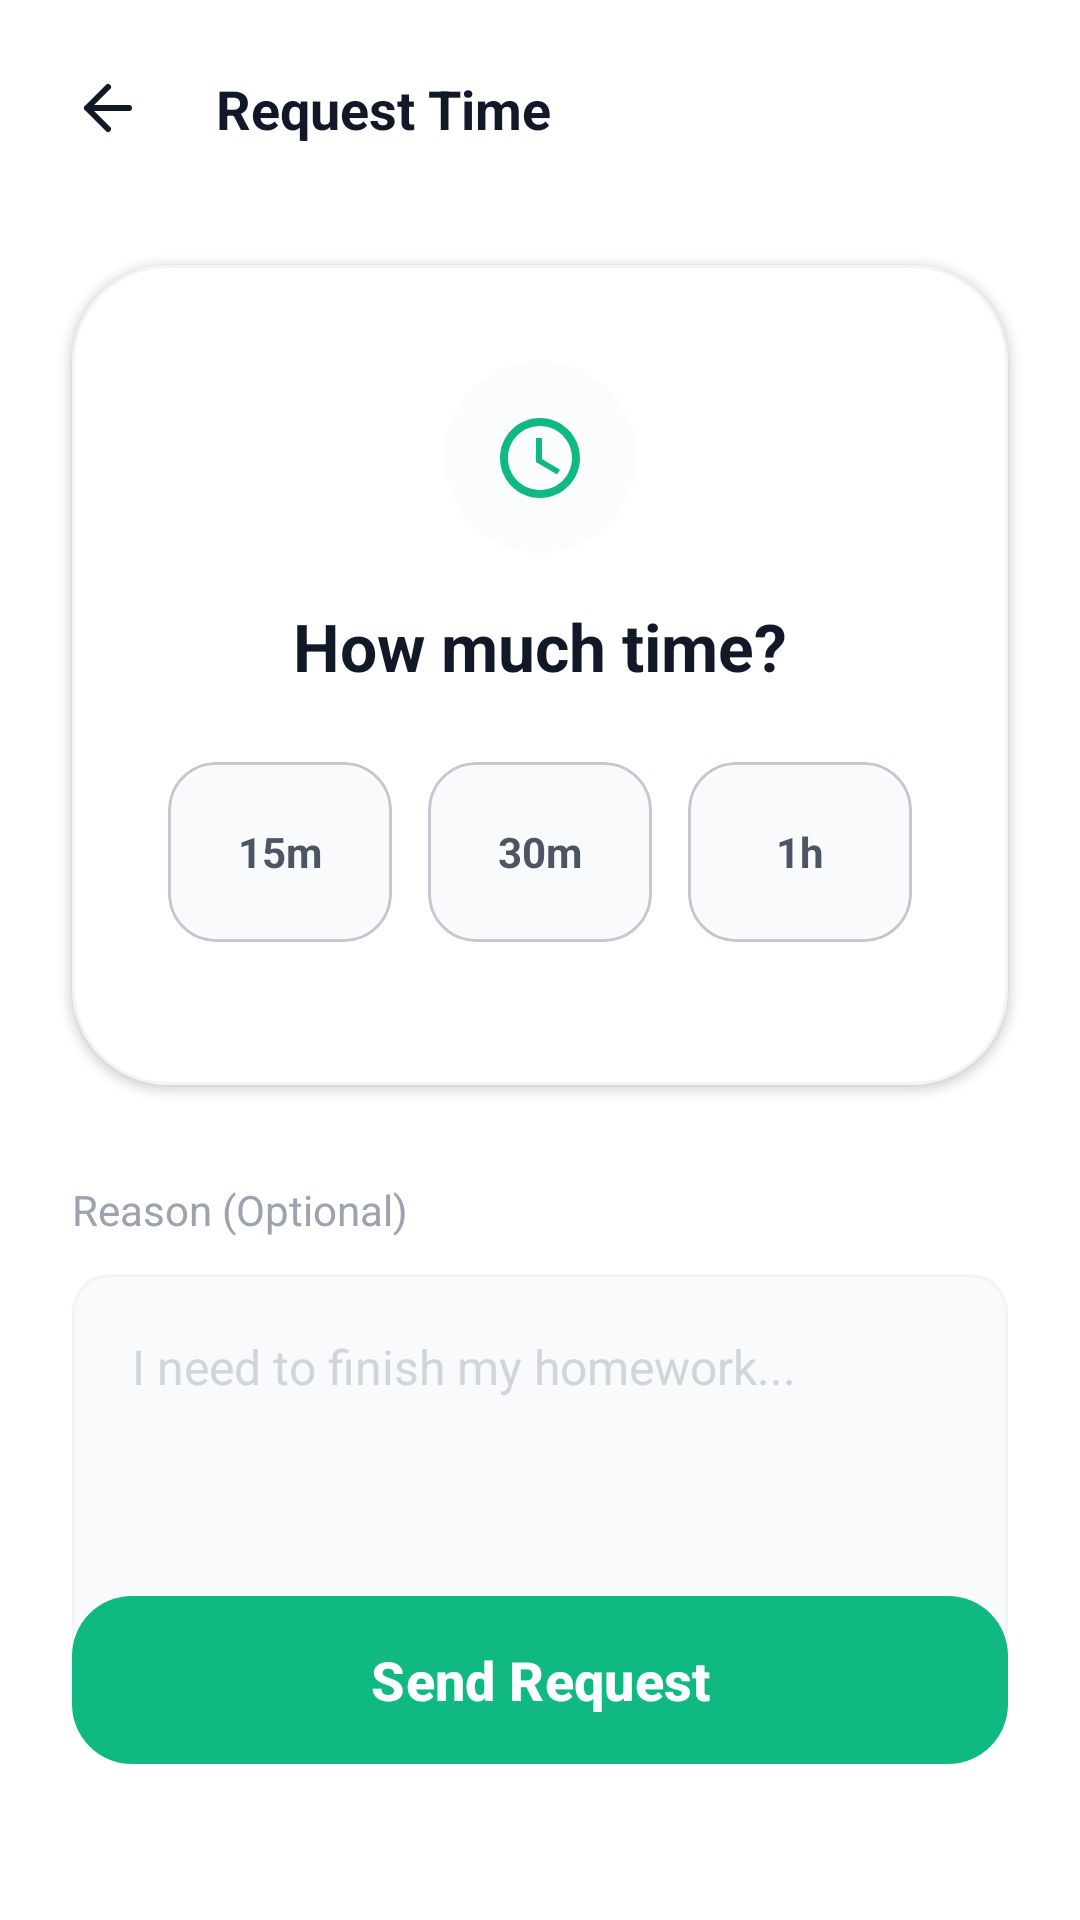

Where icons sit on this 1080w x 1920h app screen, as bbox=[x1, y1, x2, y2]:
back: bbox=[84, 84, 132, 132]
clock: bbox=[500, 418, 580, 498]
